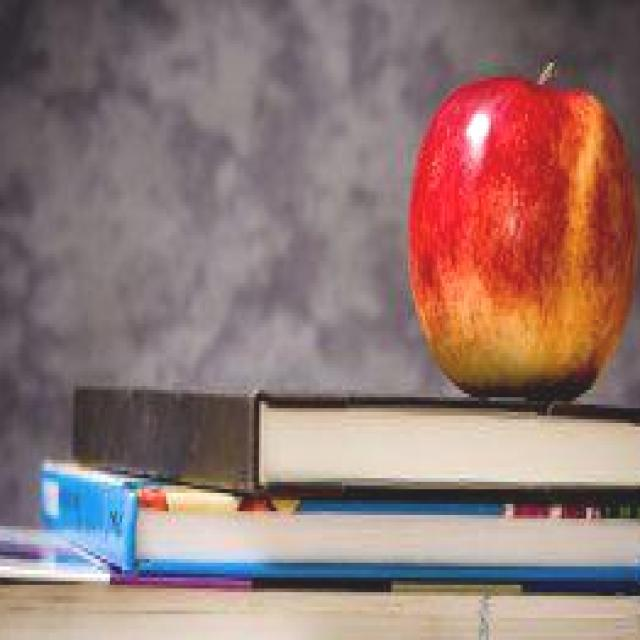apple: (395, 51, 640, 404)
